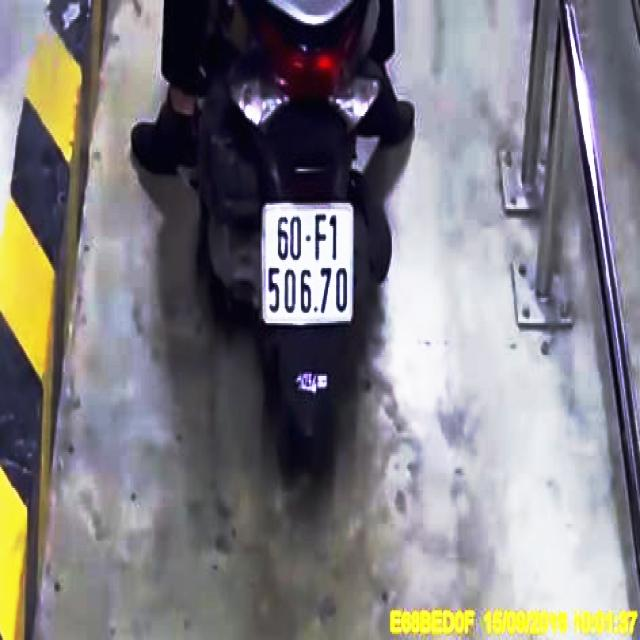license_plate: (262, 200, 354, 324)
